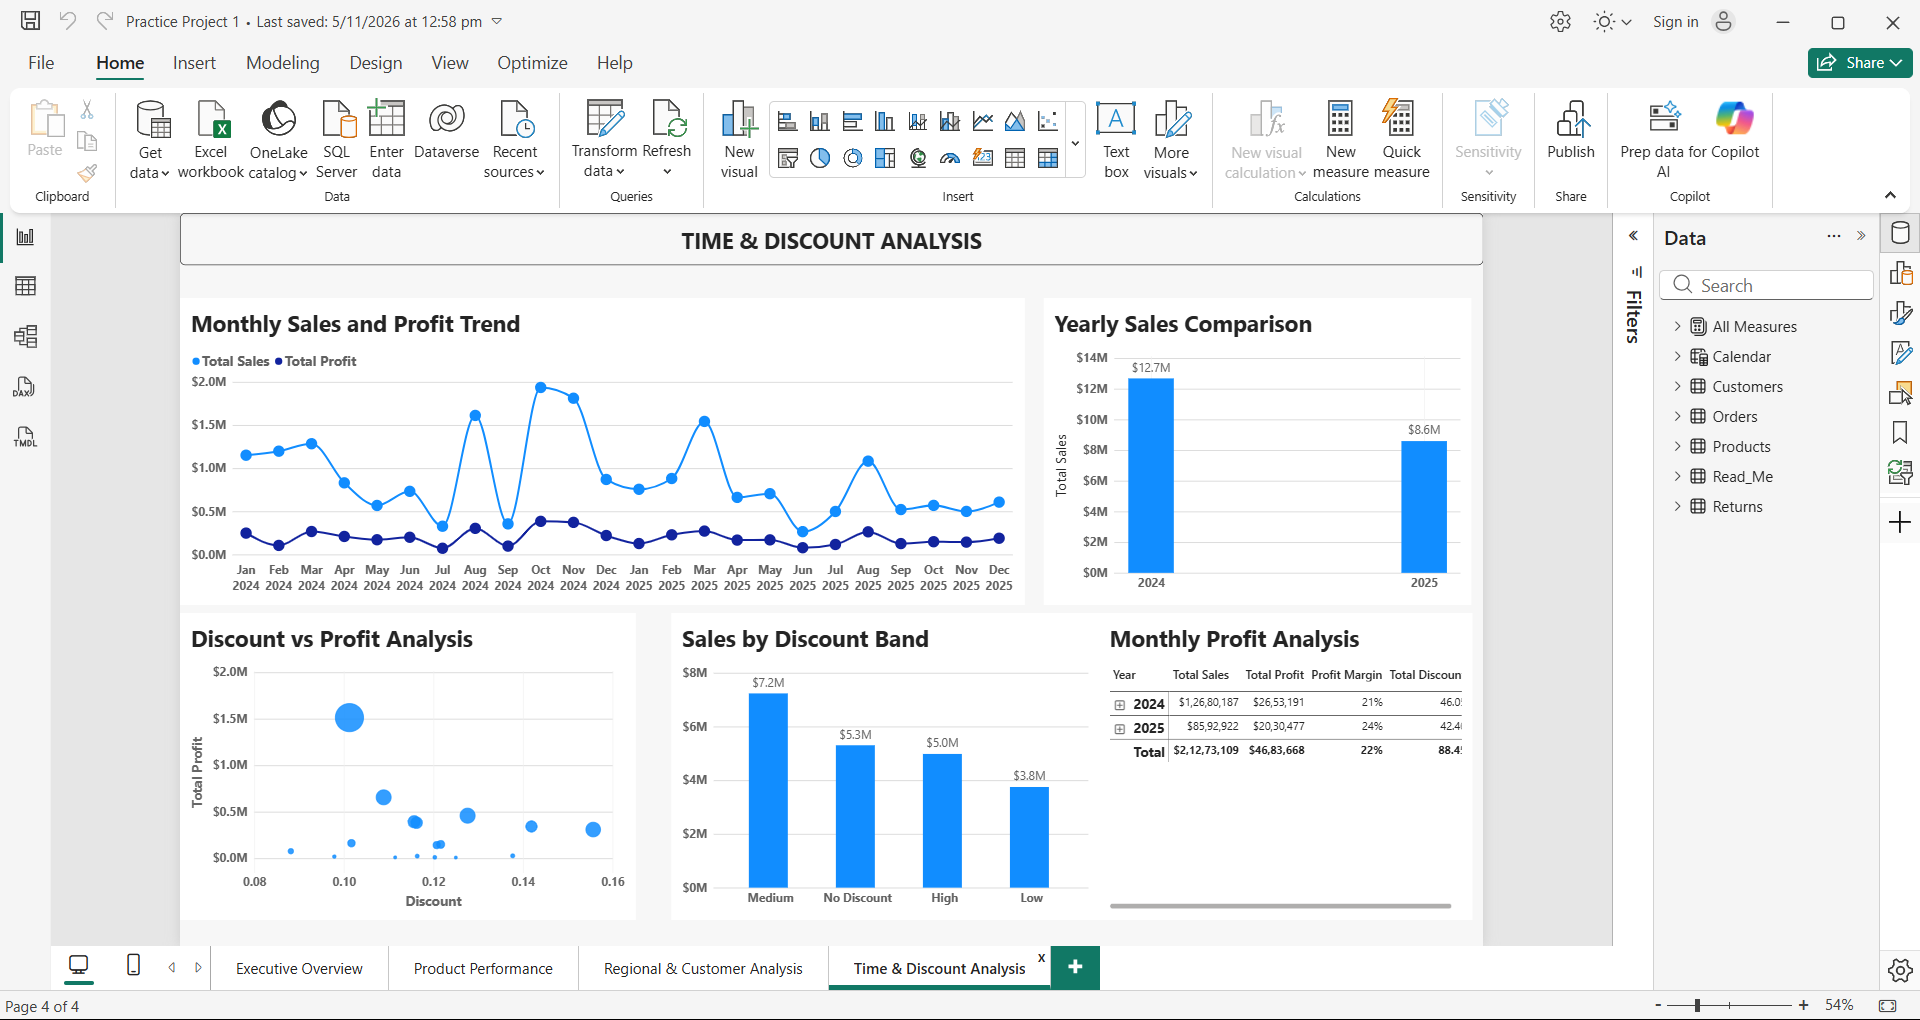

The page's visual inventory and layout, read from the dashboard file:
{"tool":"powerbi","page":{"name":"Time & Discount Analysis","canvas":[1920,1080],"ordinal":3},"visuals":[{"type":"textbox","box":[0,0,1919.6,77],"z":0},{"type":"lineChart","title":"Monthly Sales and Profit Trend","fields":{"Category":["Calendar.Month Year"],"Y":["All Measures.Total Sales","All Measures.Total Profit"]},"box":[0,125.5,1244.4,452.3],"z":1000},{"type":"clusteredColumnChart","title":"Yearly Sales Comparison","fields":{"Category":["Calendar.Year"],"Y":["All Measures.Total Sales"]},"box":[1272.5,125.5,629.8,452.3],"z":2000},{"type":"scatterChart","title":"Discount vs Profit Analysis","fields":{"Category":["Products.ProductName"],"Size":["All Measures.Total Sales"],"X":["Avg(Orders.Discount)"],"Y":["All Measures.Total Profit"]},"box":[0,588.6,670.9,452.3],"z":3000},{"type":"clusteredColumnChart","title":"Sales by Discount Band","fields":{"Category":["Orders.Discount Band"],"Y":["All Measures.Total Sales"]},"box":[722.8,588.6,630,452],"z":4000},{"type":"pivotTable","title":"Monthly Profit Analysis","fields":{"Rows":["Calendar.Year","Calendar.Month Name"],"Values":["All Measures.Total Sales","All Measures.Total Profit","All Measures.Profit Margin","All Measures.Total Discount"]},"box":[1353,589,550,452],"z":5000}]}

Visuals, with their boxes on the page's 1920x1080 design canvas (x1, y1, x2, y2). These are canvas units, not pixel positions in the 1920x1020 screenshot, which may show the page scaled, cropped or inside an application window:
textbox: (x1=0, y1=0, x2=1920, y2=77)
"Monthly Sales and Profit Trend" lineChart: (x1=0, y1=126, x2=1244, y2=578)
"Yearly Sales Comparison" clusteredColumnChart: (x1=1272, y1=126, x2=1902, y2=578)
"Discount vs Profit Analysis" scatterChart: (x1=0, y1=589, x2=671, y2=1041)
"Sales by Discount Band" clusteredColumnChart: (x1=723, y1=589, x2=1353, y2=1041)
"Monthly Profit Analysis" pivotTable: (x1=1353, y1=589, x2=1903, y2=1041)
